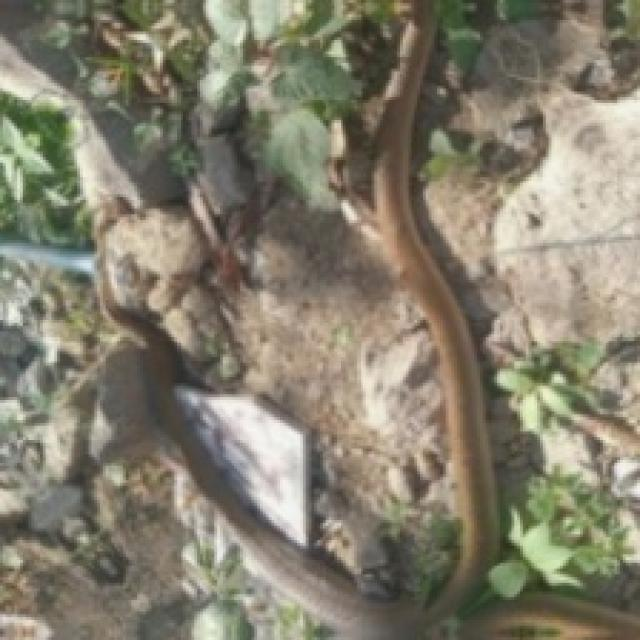philippine cobra: (101, 0, 499, 640)
